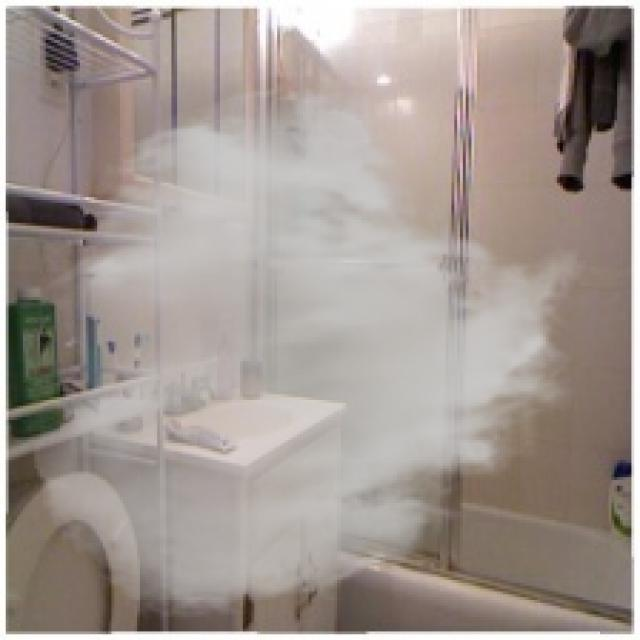smoke: (29, 83, 588, 623)
